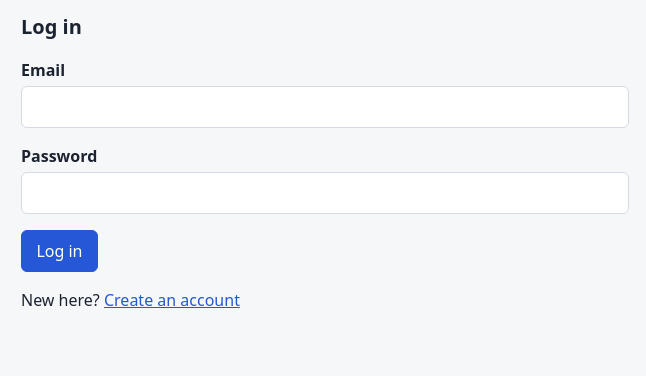
Test: LoginForm › extra: asks for both fields before sending anything
Click the button "Log in" at (59, 251), box [21,230,98,272]
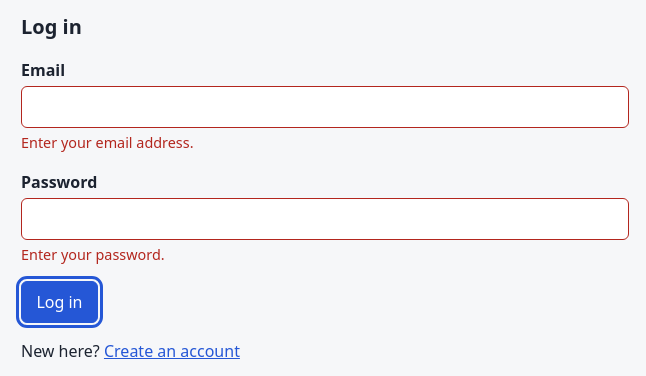
Result: the text "Enter your email address." is shown at [21,133,194,152]
Result: the text "Enter your password." is shown at [21,245,165,264]
